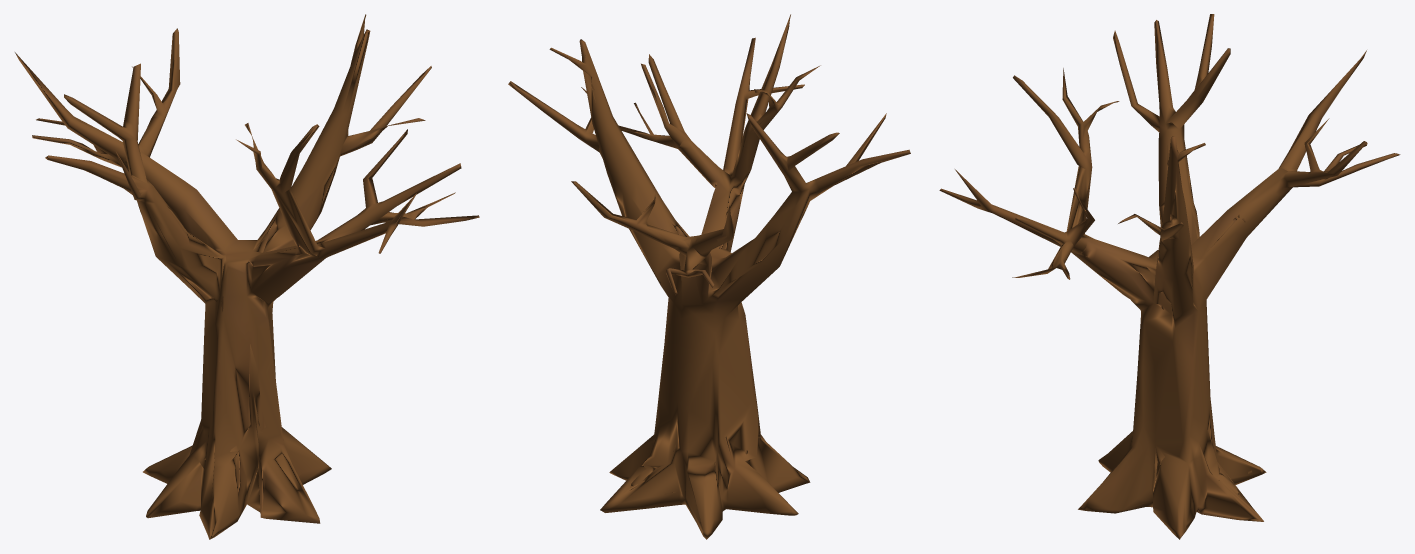
Rendered from gen3d-dead-desert-tree-lod0.glb.
3 views of the same model, side by side, from view 1: azimuth 30°, elevation 25°; view 2: azimuth 150°, elevation 25°; view 3: azimuth 270°, elevation 25° (orthographic). The views are drawn at different scales.
Parts seen in each view (by area): view 1: part_0; view 2: part_0; view 3: part_0.
Boxes of the visible parts, x1,y1,x2,y2 form: part_0: (15, 14, 479, 539); part_0: (508, 14, 910, 539); part_0: (939, 14, 1400, 539).
Size of the model in its own units: 0.9622 by 1 by 0.9954.
